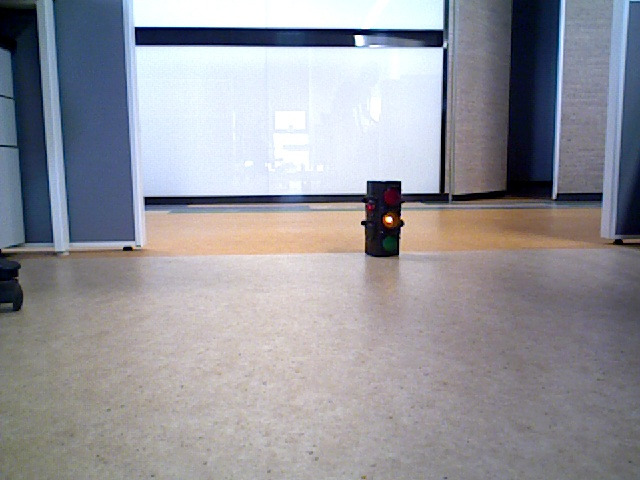yellow: (366, 185, 398, 253)
